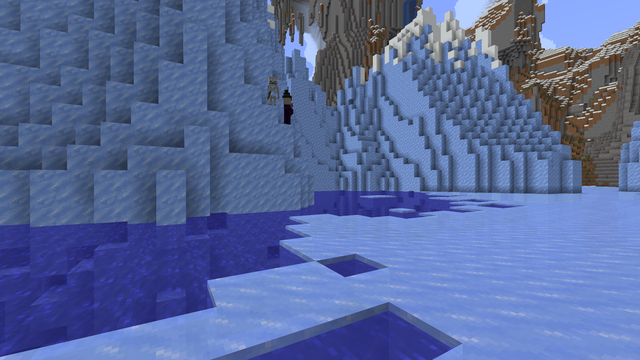sorcieres: (282, 95, 292, 121)
squelettes: (267, 76, 278, 109)
